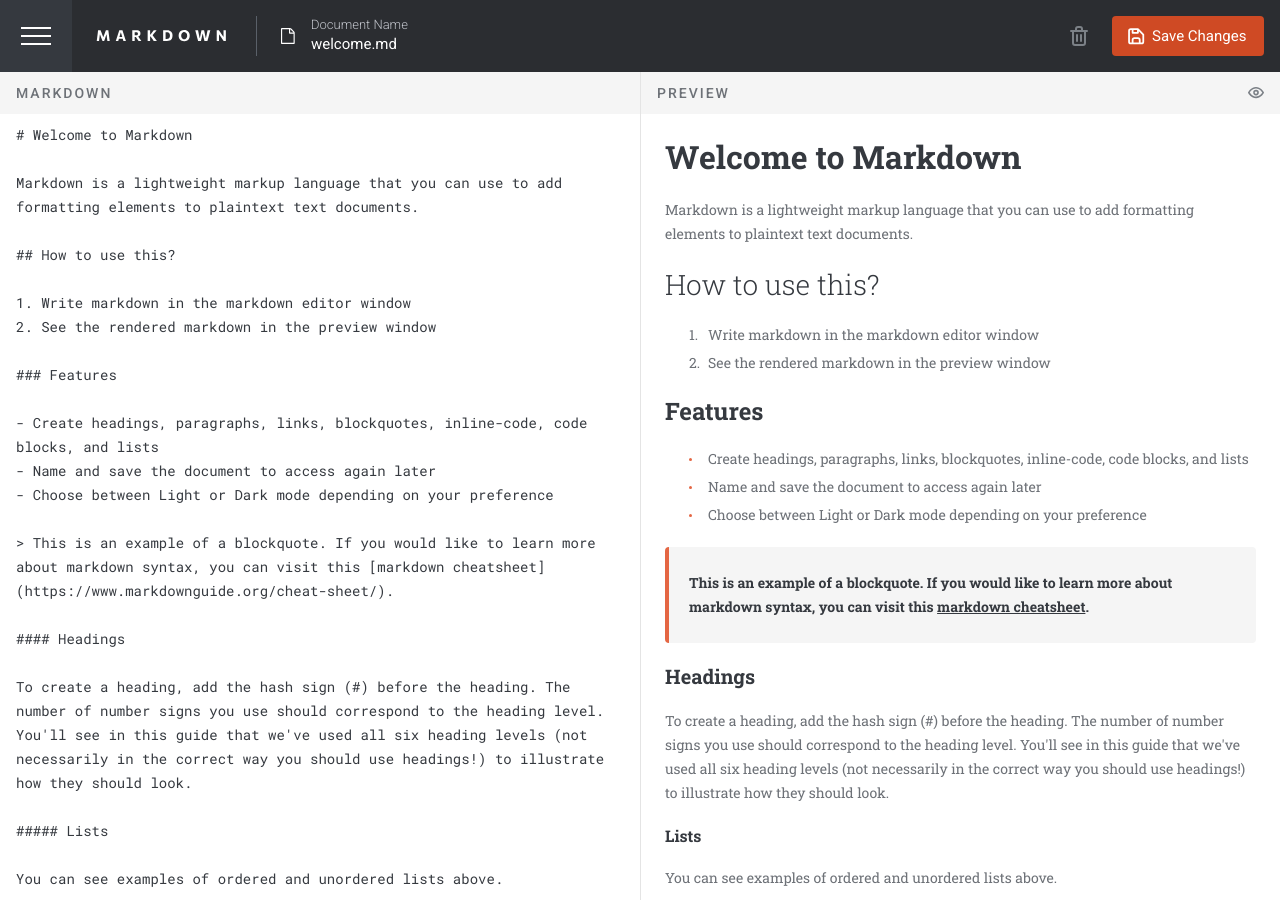
Scenario: MarkdownApp delete dialog › deletes once confirmed, opens the next document and announces it
The width and height of the screenshot is (1280, 900).
Click the button named "Delete document". click: (1079, 36)
box: [1058, 14, 1100, 58]
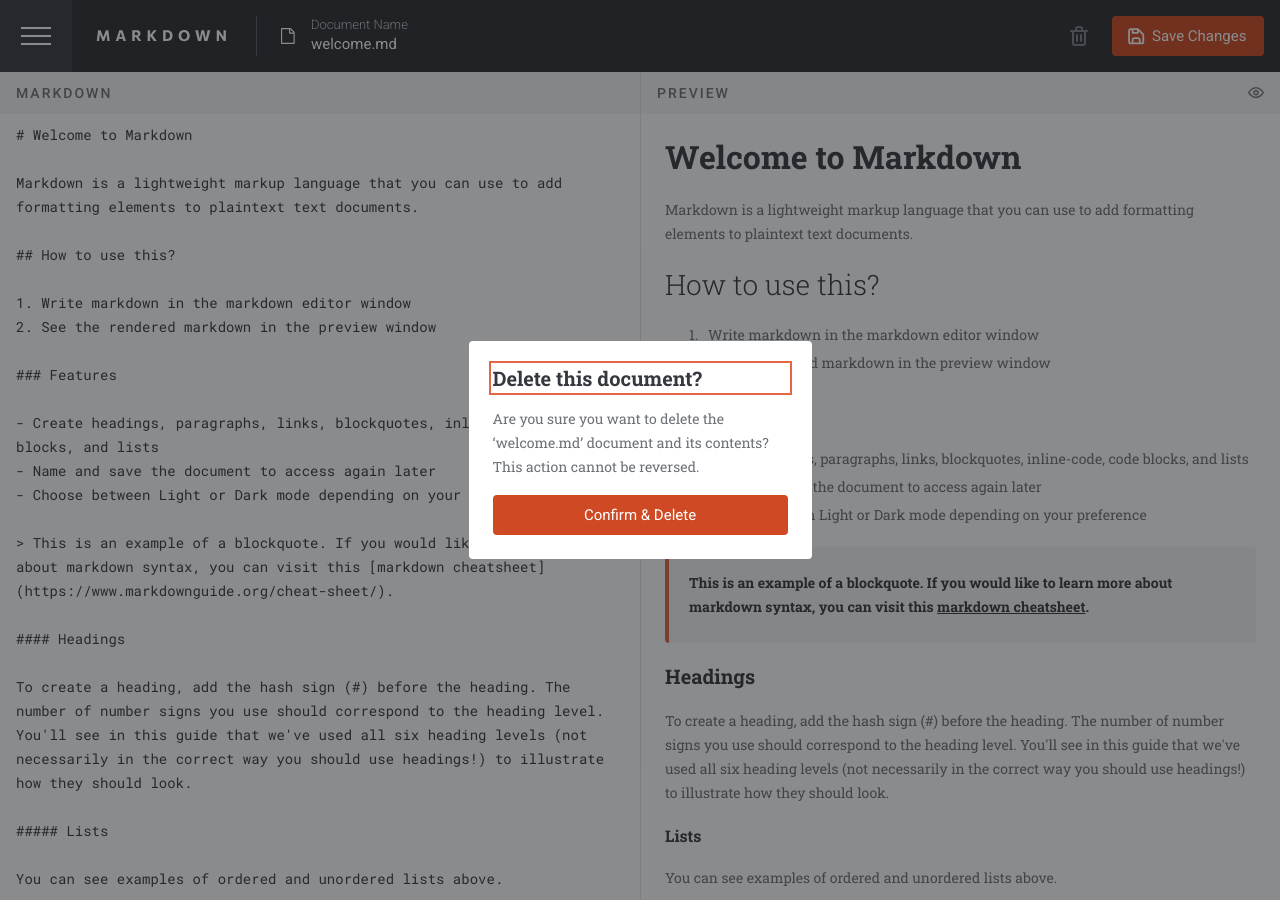
Click the button "Confirm & Delete". click: (640, 515)
box: [492, 495, 788, 535]
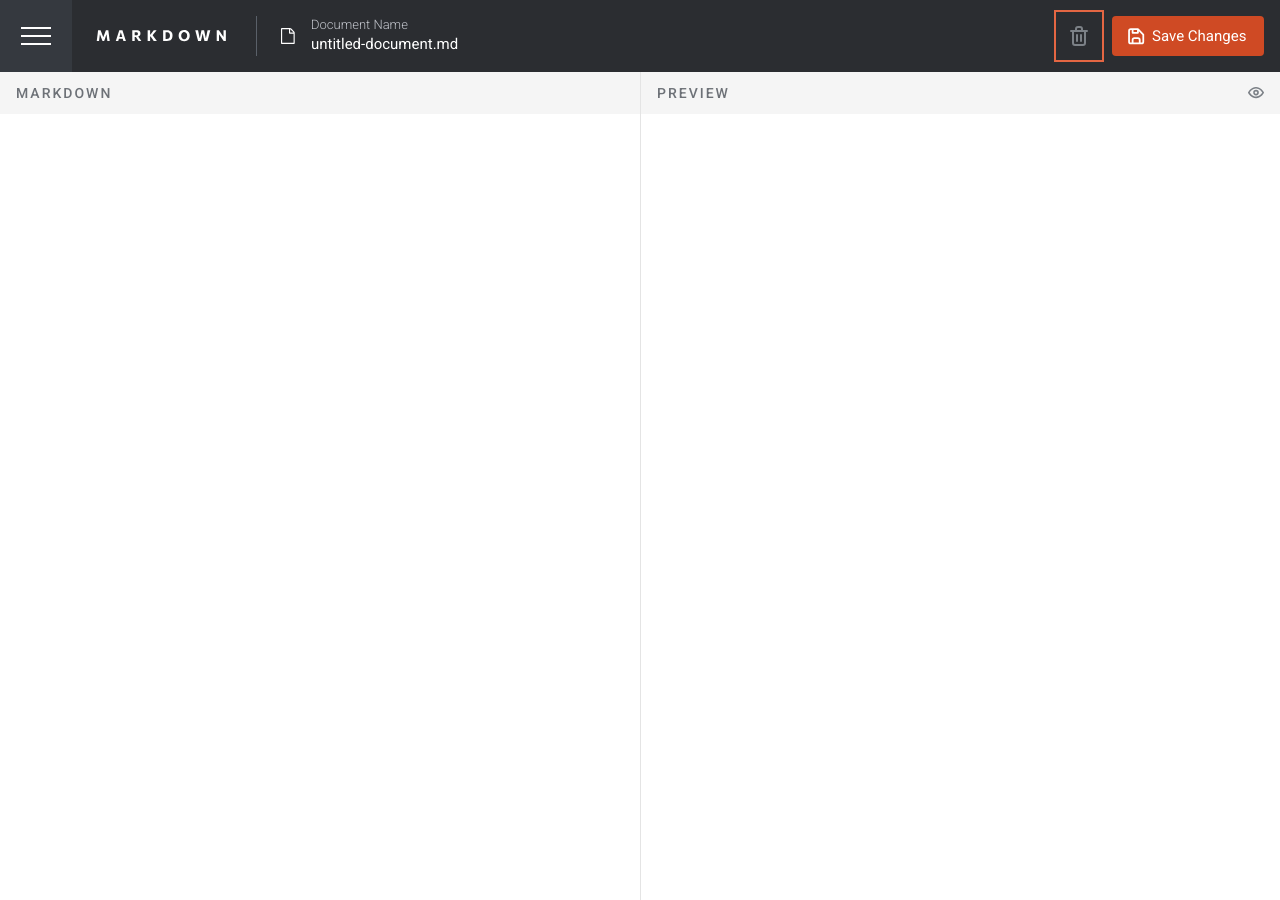
Check: the dialog is gone
Check: the field labelled "Document Name" holds "untitled-document.md", box [311, 35, 711, 55]
